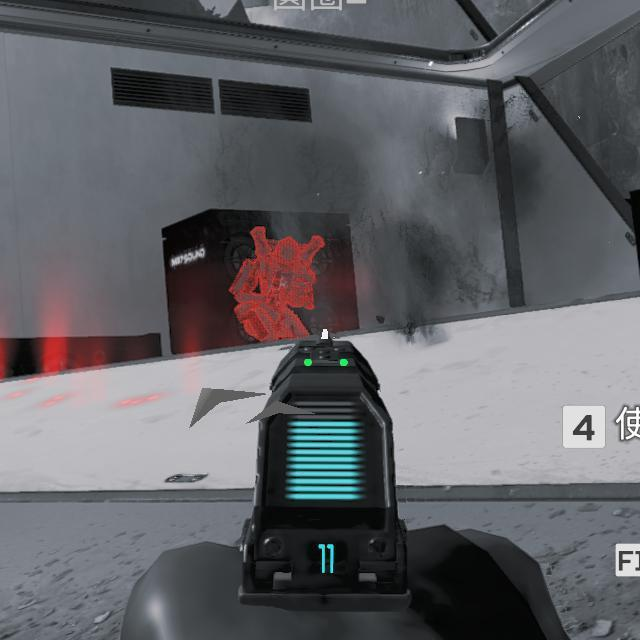avatar: (229, 223, 325, 346)
